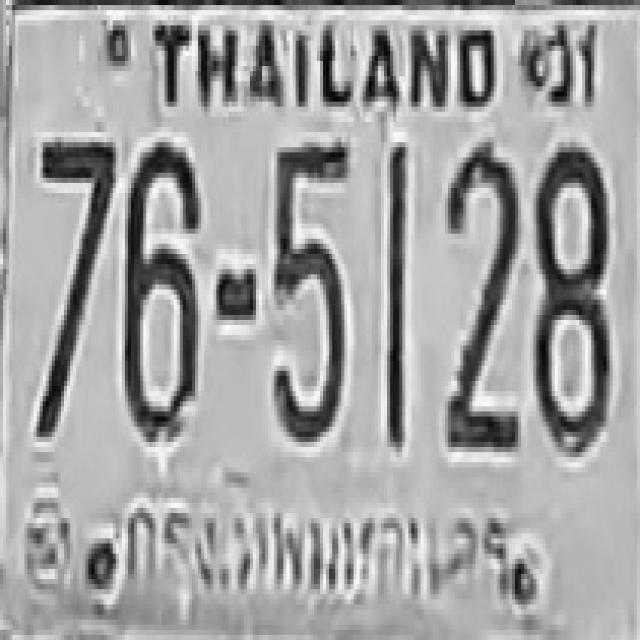1: (382, 145, 407, 444)
2: (442, 142, 518, 447)
5: (272, 140, 348, 439)
6: (122, 137, 198, 442)
7: (38, 134, 114, 440)
8: (534, 142, 610, 452)
Bangkok: (116, 473, 517, 605)
